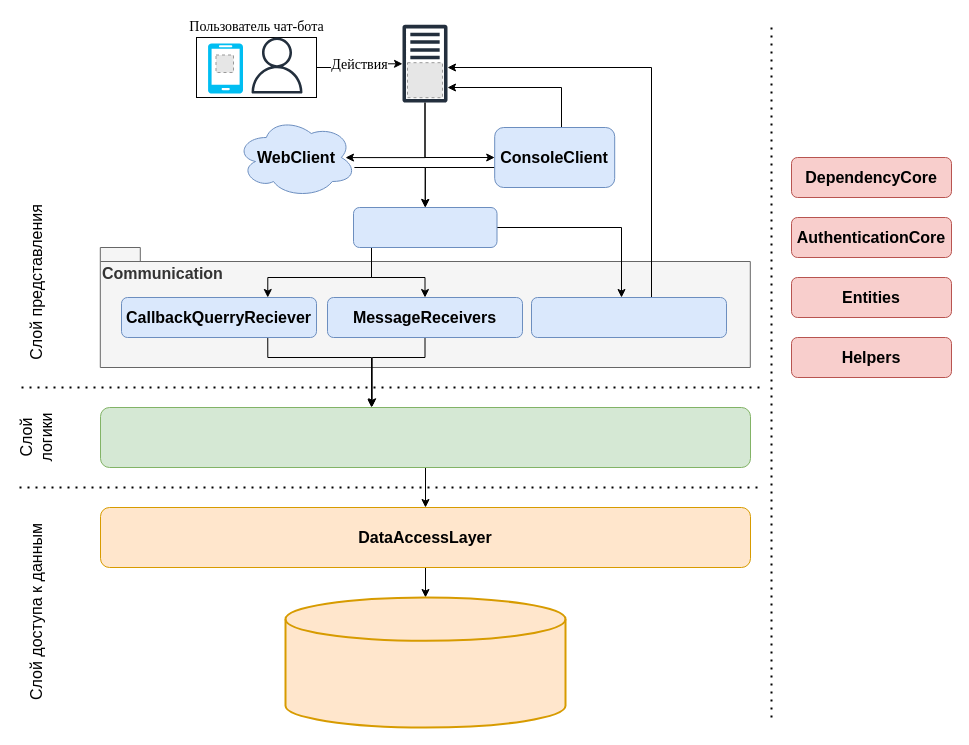
The diagram is 969 pixels wide and 745 high, and some of its shapes have lost their labels. Grey dashed boxes stand in for pictures. Here are the shapes that lost their labels. From the top down, the centre of each, then its label:
the point at 424,227: UpdateHandlers
the point at 628,317: ChatManager
the point at 425,437: LogicLayer
the point at 425,662: MS SQL Server
